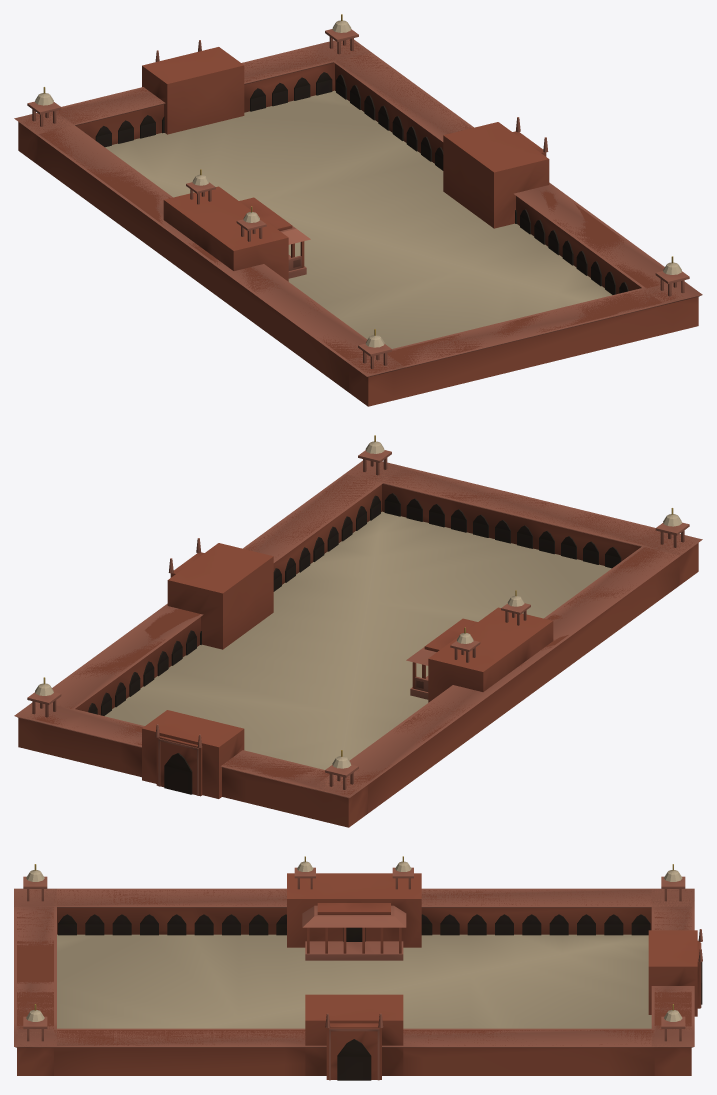
Rendered from diwan-i-am.glb.
The picture shows the model from 3 angles, top to bottom: view 1: azimuth 30°, elevation 25°; view 2: azimuth 150°, elevation 25°; view 3: azimuth 270°, elevation 25°; orthographic projection. The views are drawn at different scales.
Visible parts, largest first — view 1: p0_cloisters, p1_gates and throne, p2_kiosks; view 2: p0_cloisters, p1_gates and throne, p2_kiosks; view 3: p0_cloisters, p1_gates and throne, p2_kiosks.
Boxes of the visible parts, x1,y1,x2,y2 form: p0_cloisters: [14, 39, 702, 406]; p1_gates and throne: [142, 40, 549, 281]; p2_kiosks: [27, 14, 689, 368]; p0_cloisters: [14, 460, 702, 827]; p1_gates and throne: [142, 538, 553, 798]; p2_kiosks: [27, 435, 689, 789]; p0_cloisters: [14, 888, 694, 1075]; p1_gates and throne: [287, 873, 702, 1080]; p2_kiosks: [23, 856, 685, 1041].
Bounding box in the file's own units: 62.41 × 14.32 × 112.
